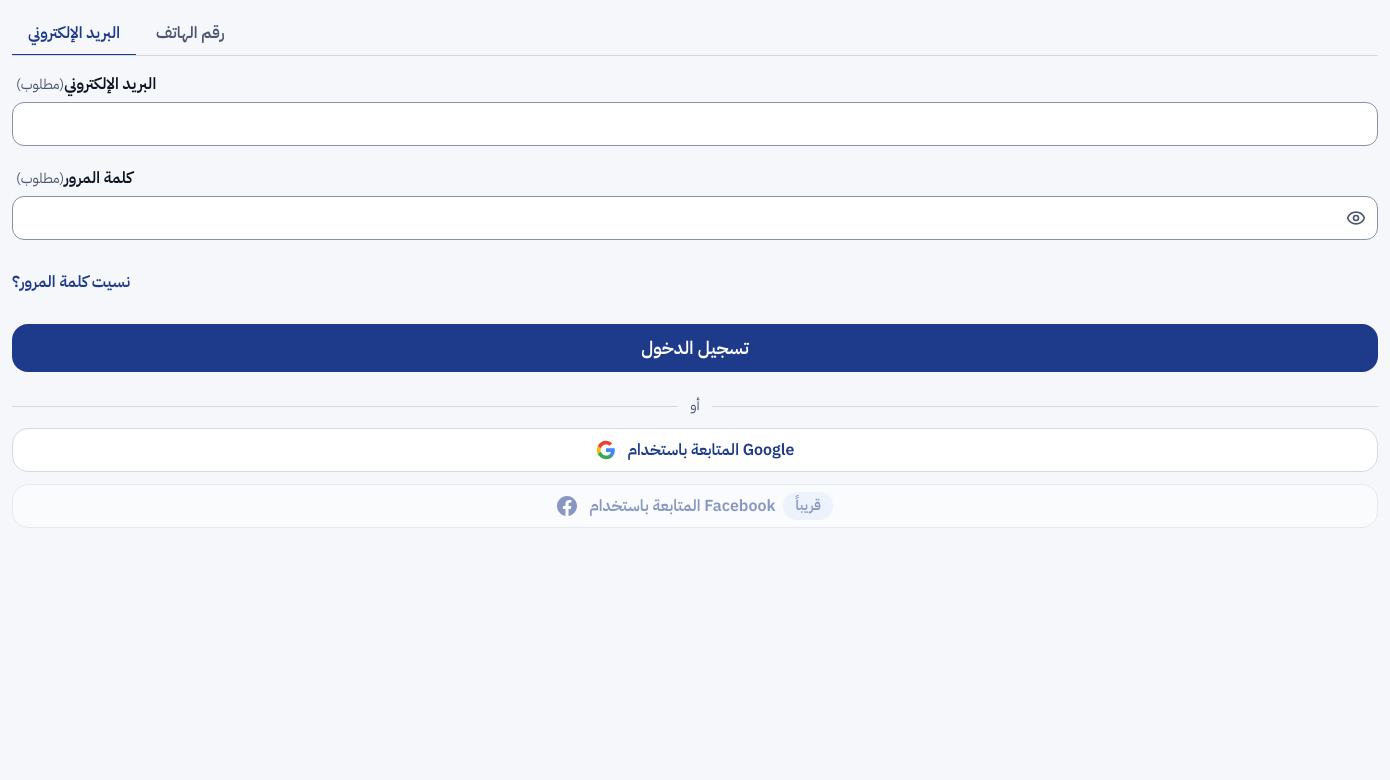
Scenario: LoginForm › refuses a provider URL that is not http(s)
Step 1. Click the button "المتابعة باستخدام Google" → point(695, 450), box x1=12 y1=428 x2=1378 y2=472
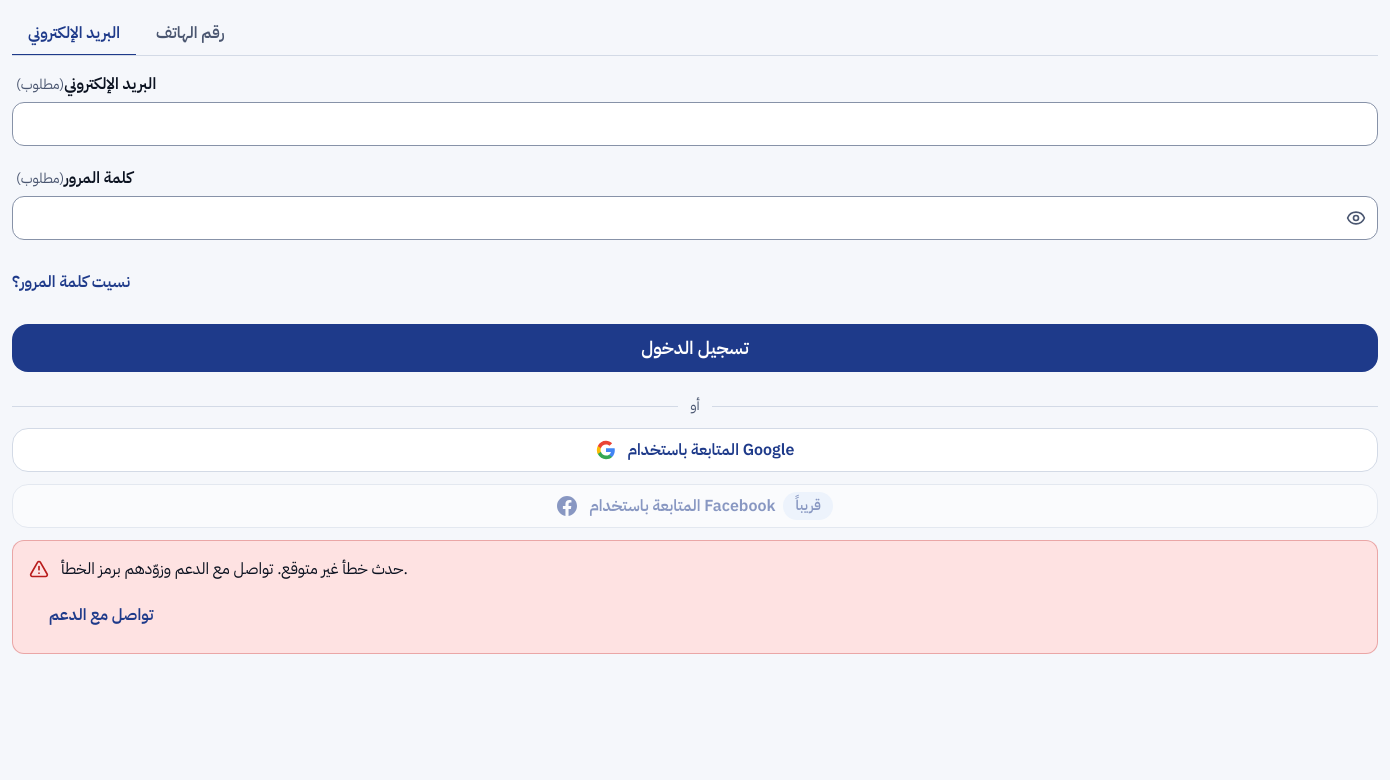
Expected: the message "حدث خطأ غير متوقع. تواصل مع الدعم وزوّدهم برمز الخطأ. تواصل مع الدعم" is shown, x1=12 y1=540 x2=1378 y2=654
